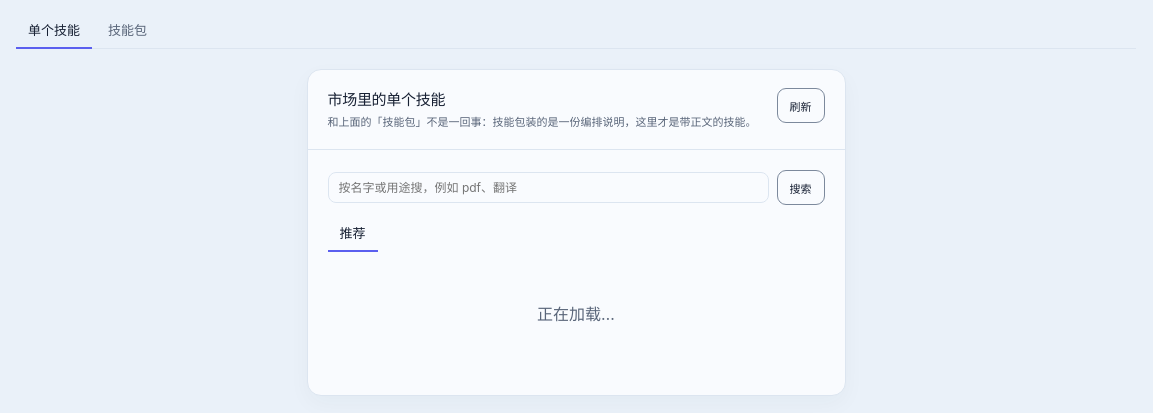
Test: 技能市场 · 技能包 › 上游没连上就说没连上，不显示成「市场是空的」
This screenshot has width=1153, height=413.
Click the tab with test id "hub-tab-pack": [128, 30] box 96,12 -> 159,49
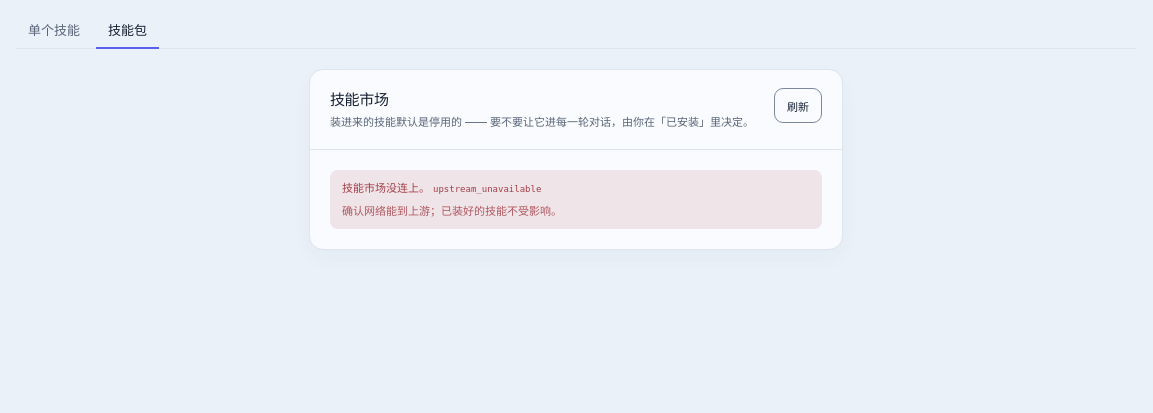
Expected: the text "技能市场没连上。 upstream_unavailable" is shown, 342,181 -> 541,195
Expected: the text "确认网络能到上游；已装好的技能不受影响。" is shown, 342,204 -> 562,218
